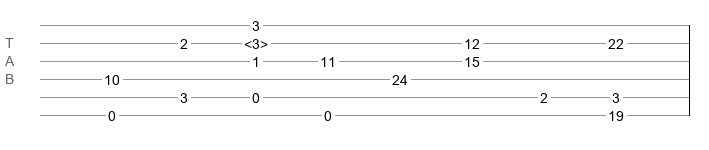0: (108, 108, 116, 118), (252, 90, 260, 100), (324, 108, 332, 118)
1: (252, 54, 260, 64)
10: (104, 72, 120, 82)
11: (320, 54, 336, 64)
12: (464, 36, 480, 46)
15: (464, 54, 480, 64)
19: (608, 108, 624, 118)
2: (180, 36, 188, 46), (540, 90, 548, 100)
22: (608, 36, 624, 46)
24: (392, 72, 408, 82)
3: (180, 90, 188, 100), (252, 18, 260, 28), (612, 90, 620, 100)
harmonic: (244, 36, 268, 46)
